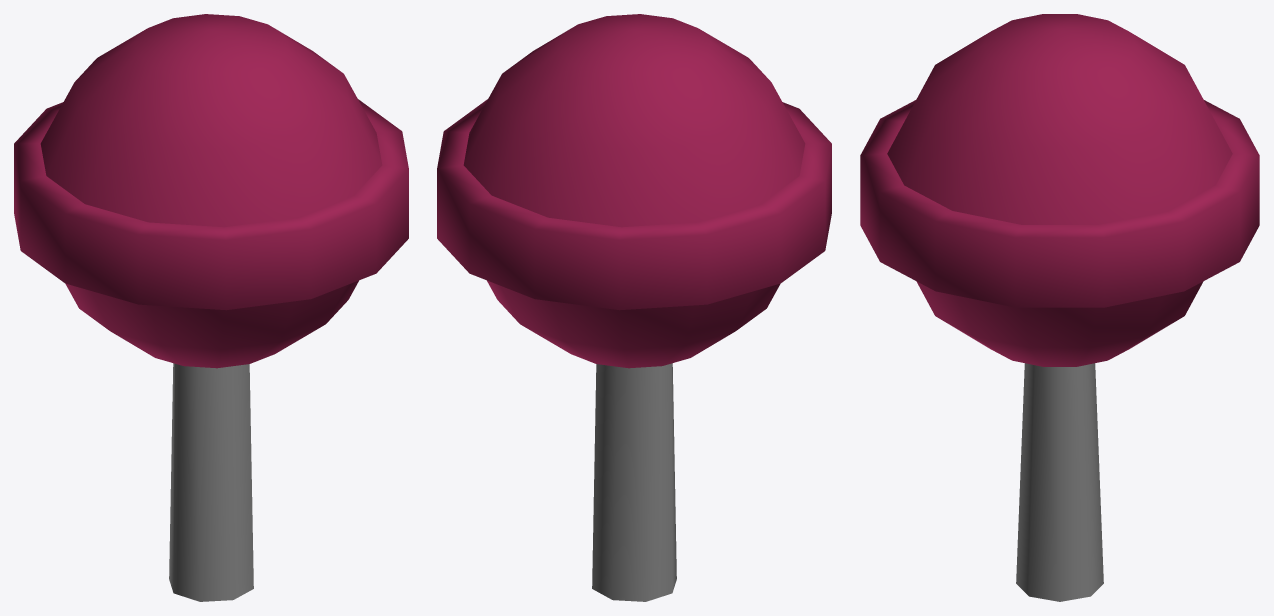
The model's file is food_candy_01.fbx.
3 views of the same model, side by side, from view 1: azimuth 30°, elevation 25°; view 2: azimuth 150°, elevation 25°; view 3: azimuth 270°, elevation 25° (orthographic).
Parts seen in each view (by area): view 1: food_candy_01; view 2: food_candy_01; view 3: food_candy_01.
Boxes of the visible parts, left/top/right/bottom form: food_candy_01: left=14, top=14, right=408, bottom=601; food_candy_01: left=437, top=14, right=831, bottom=601; food_candy_01: left=860, top=14, right=1259, bottom=601.
Bounding box in the file's own units: 41.53 × 65.16 × 42.6.
